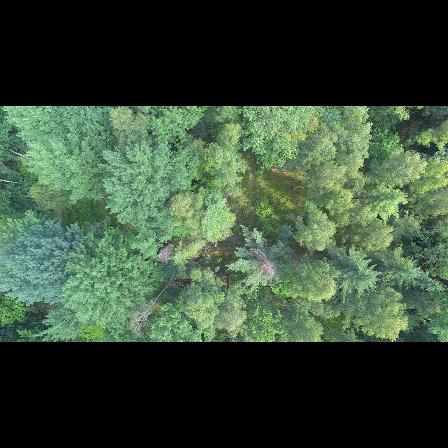Dead: (131, 273, 178, 332), (248, 250, 282, 289), (153, 241, 178, 262)
